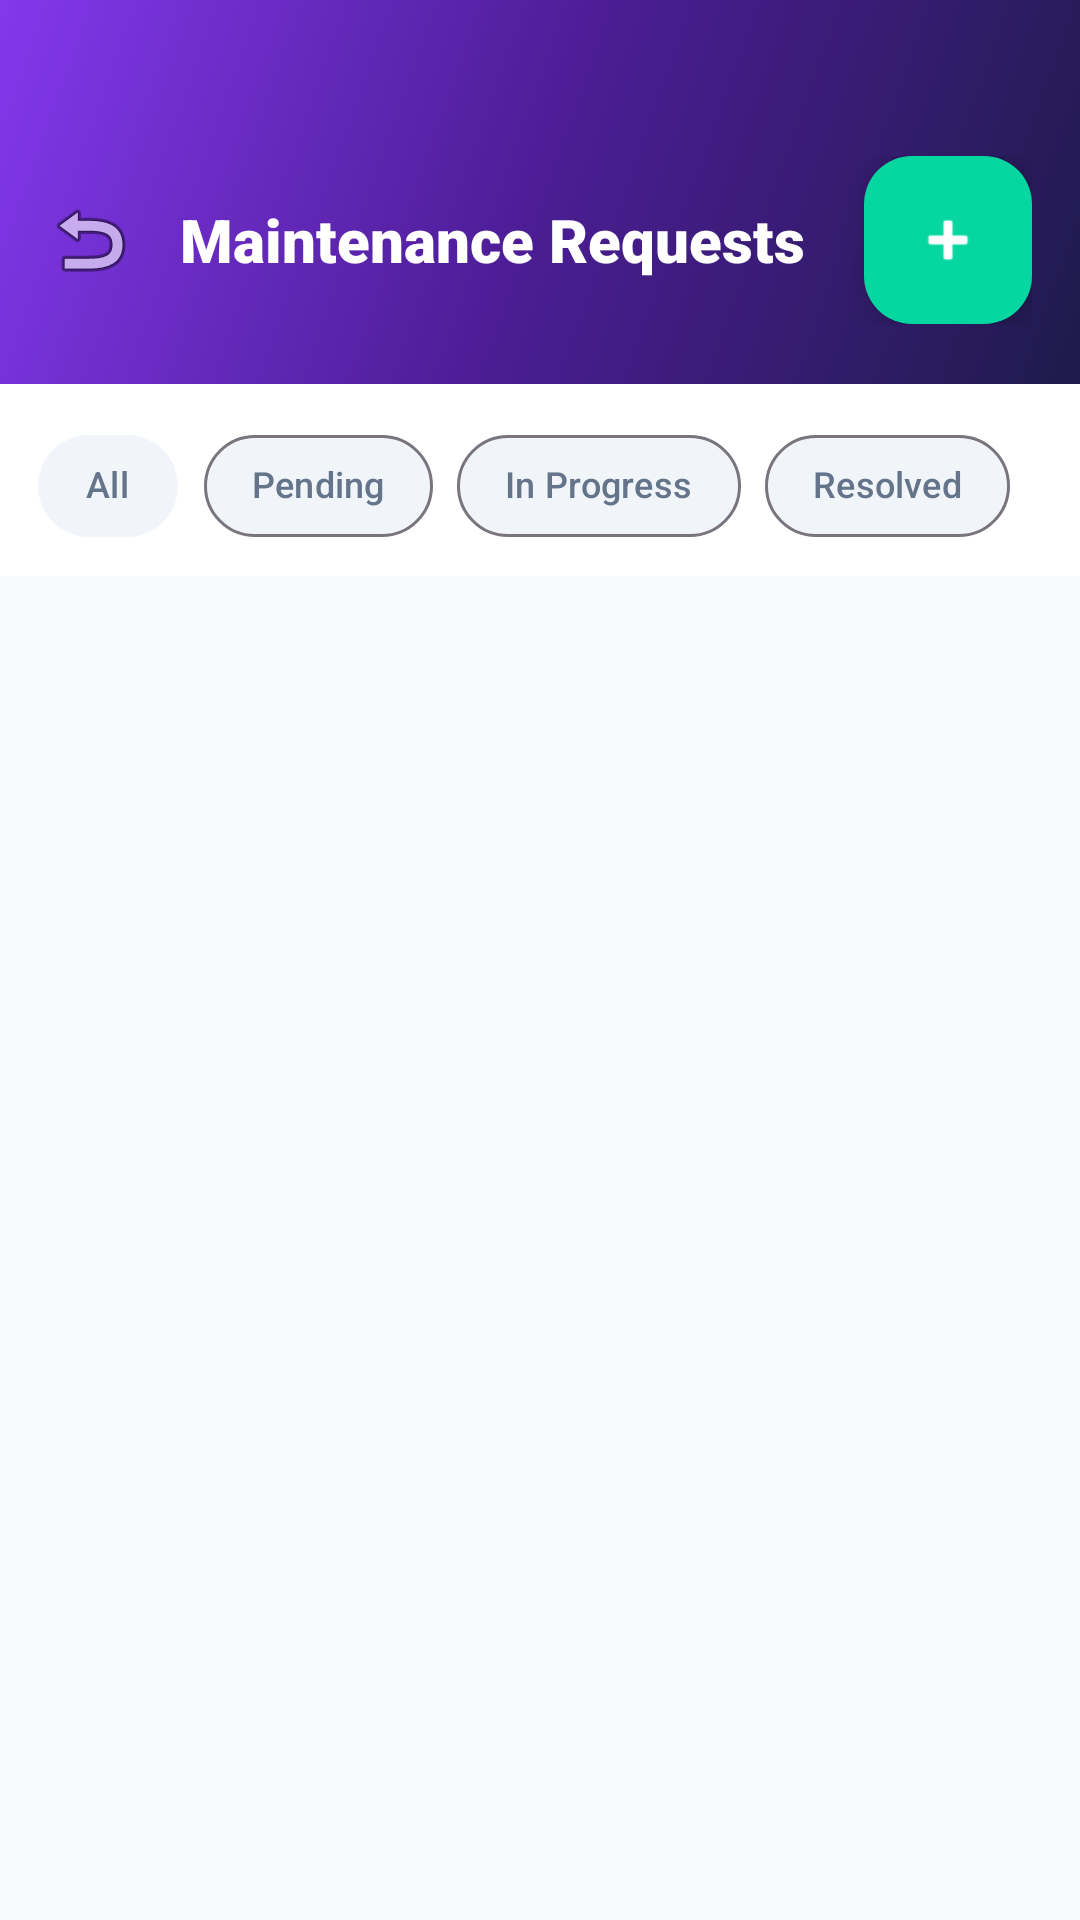

Icon bounding boxes for this 1080x1920 phone screenshot, format rect(x1, y1, x2, y2):
add: rect(864, 156, 1032, 324)
Back: rect(57, 209, 126, 272)
